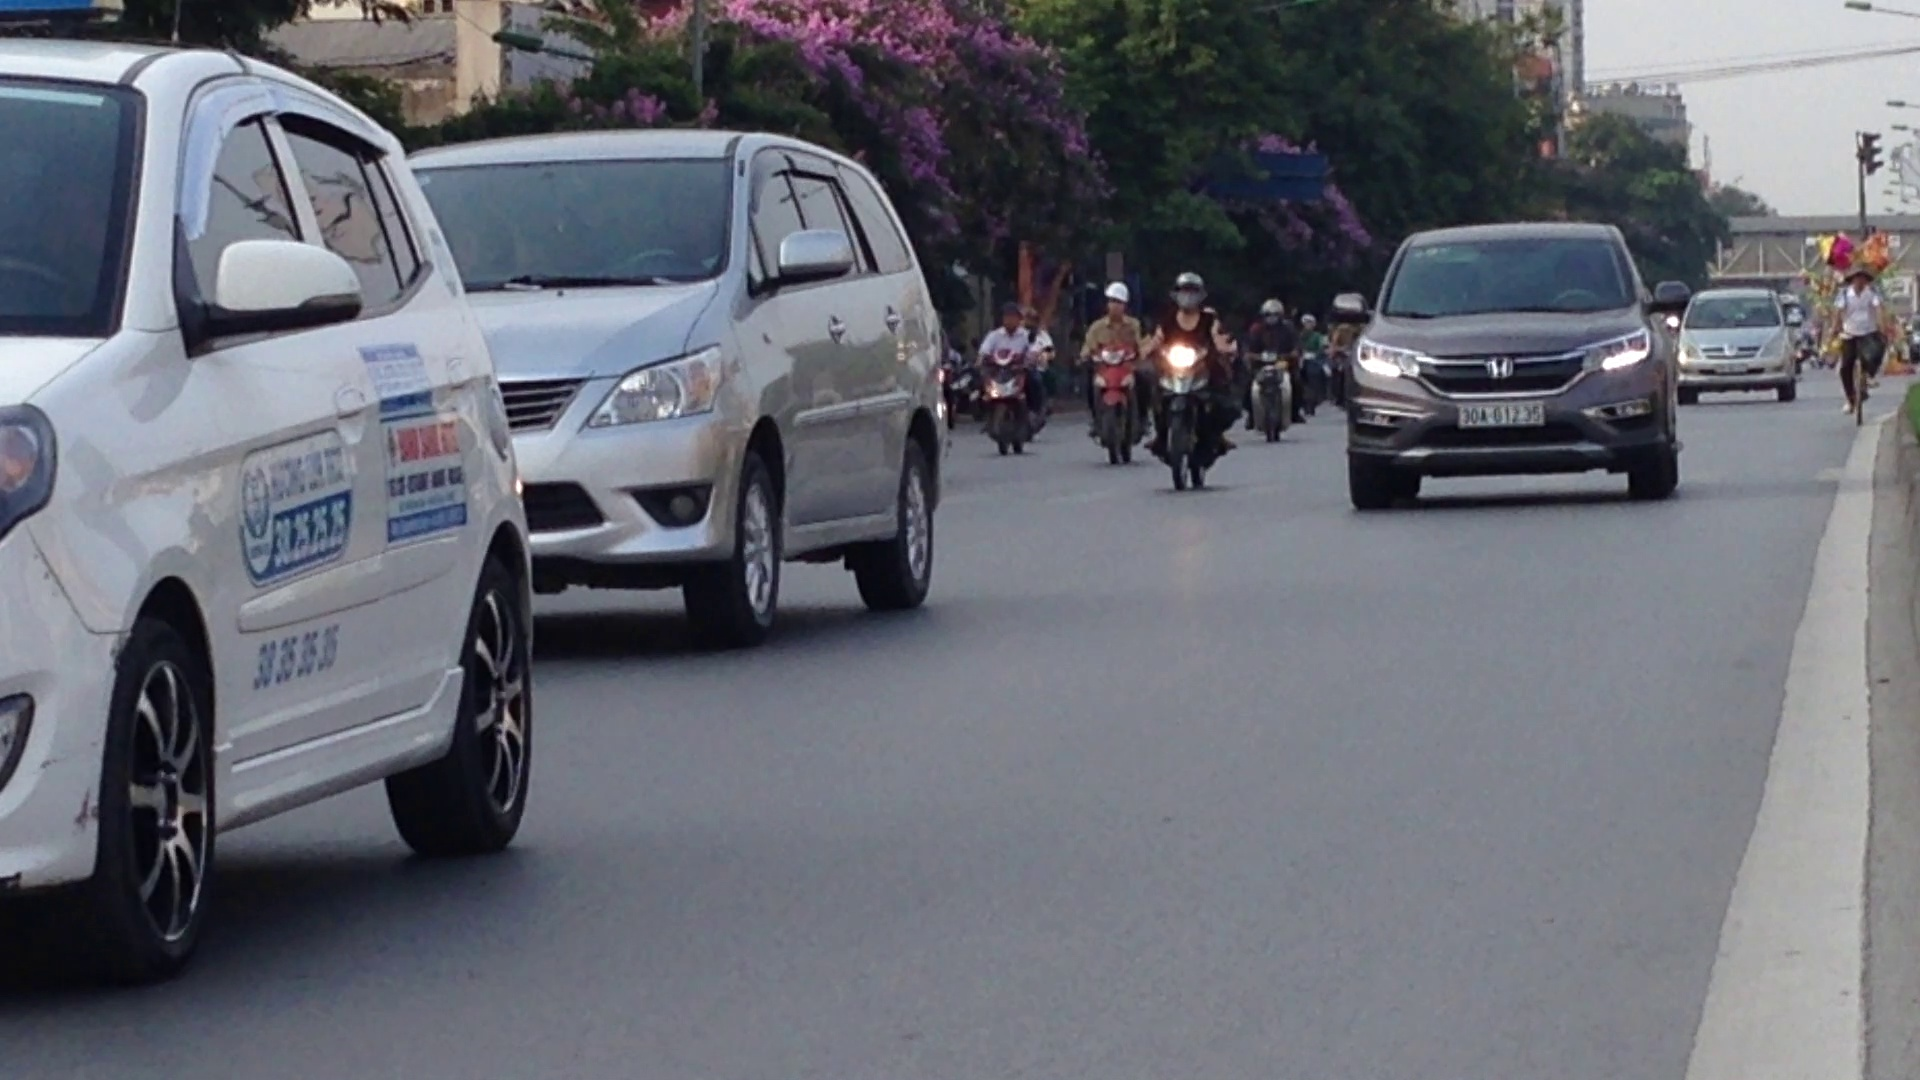person: (1452, 398, 1547, 429)
